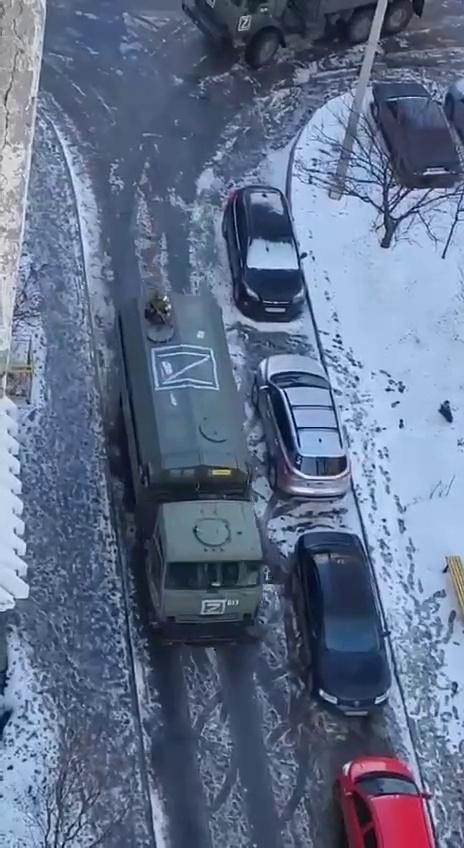car: (292, 532, 397, 722), (255, 353, 352, 502), (221, 184, 309, 325), (370, 80, 462, 188), (339, 756, 434, 848)
truck: (112, 293, 268, 649), (183, 0, 437, 73)
